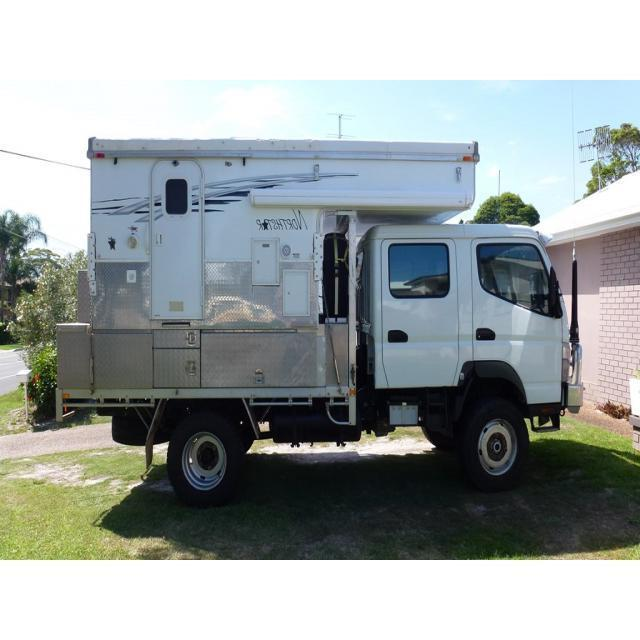truck: (56, 142, 584, 500)
